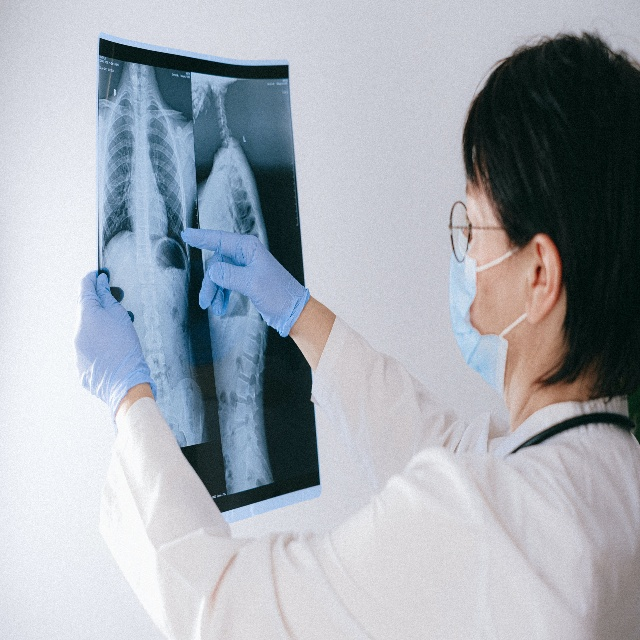Gafas: (447, 196, 508, 265)
Guantes: (180, 225, 303, 337), (73, 270, 158, 407)
Mascara: (449, 229, 528, 393)
